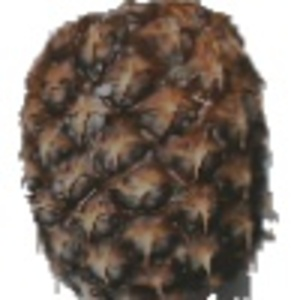abacaxi: (17, 3, 283, 295)
